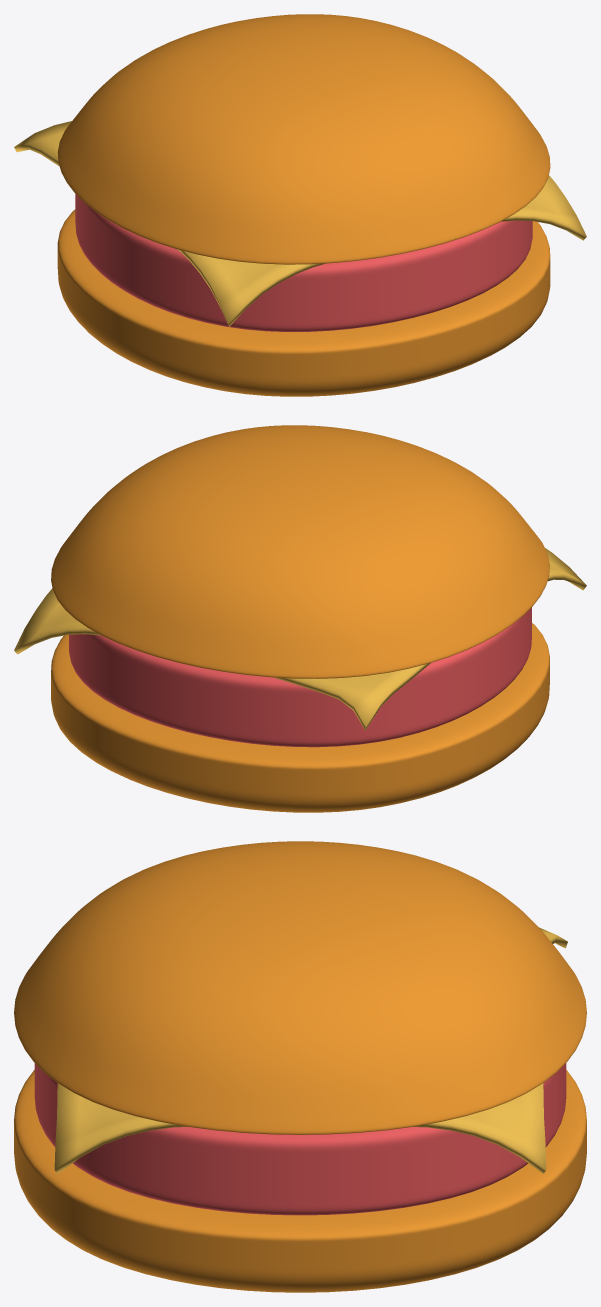
File: hamburger.glb
The picture shows the model from 3 angles, top to bottom: view 1: azimuth 30°, elevation 25°; view 2: azimuth 150°, elevation 25°; view 3: azimuth 270°, elevation 25°; orthographic projection. The views are drawn at different scales.
Parts seen in each view (by area): view 1: Cube.002, Cube, Cube.001, Plane; view 2: Cube.002, Cube, Cube.001, Plane; view 3: Cube.002, Cube, Cube.001, Plane.
Boxes of the visible parts, <box> form: Cube.002: <box>57,14,550,264</box>; Cube: <box>57,209,550,396</box>; Cube.001: <box>75,194,532,331</box>; Plane: <box>14,121,586,326</box>; Cube.002: <box>51,425,549,678</box>; Cube: <box>51,623,549,812</box>; Cube.001: <box>69,607,531,747</box>; Plane: <box>14,548,586,730</box>; Cube.002: <box>14,841,586,1134</box>; Cube: <box>14,1070,586,1292</box>; Cube.001: <box>34,1063,566,1215</box>; Plane: <box>54,927,567,1173</box>.
Bounding box in the file's own units: 9.09 × 5.52 × 9.09.
